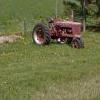Tractor: (23, 13, 87, 51)
